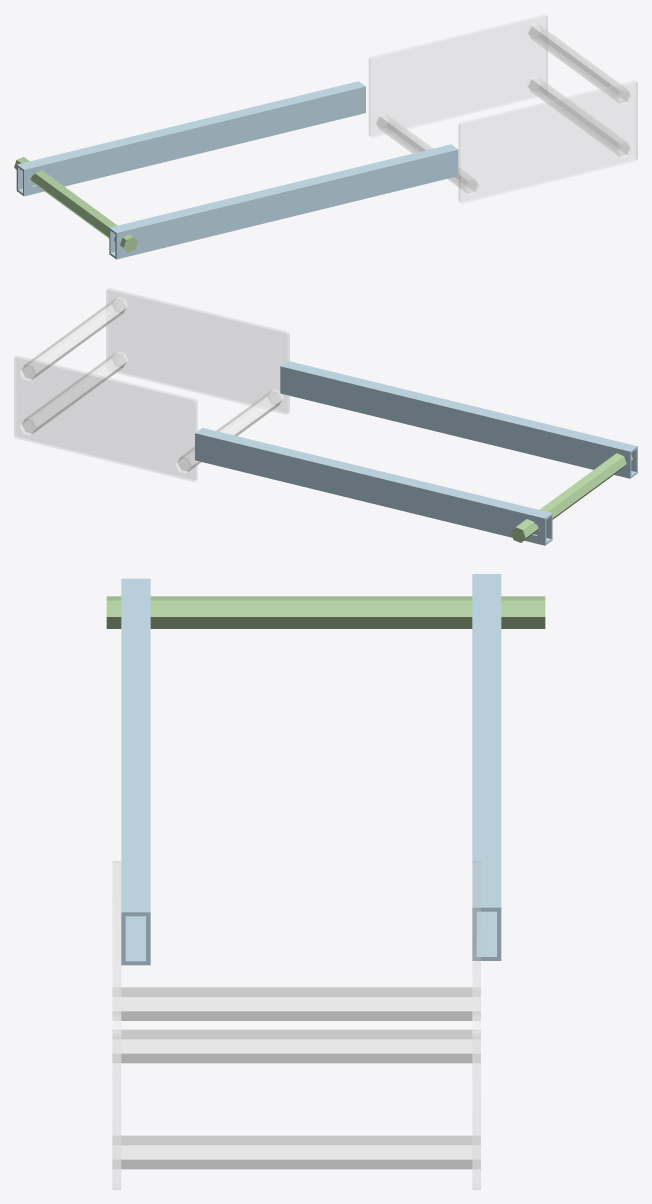
The model's file is Arm.dae.
3 renders of one model, top to bottom at view 1: azimuth 30°, elevation 25°; view 2: azimuth 150°, elevation 25°; view 3: azimuth 270°, elevation 25°, orthographic. The views are drawn at different scales.
Parts seen in each view (by area): view 1: Object.007; view 2: Object.007; view 3: Object.007.
Boxes of the visible parts, x1,y1,x2,y2 form: Object.007: (14, 14, 637, 259); Object.007: (14, 288, 637, 545); Object.007: (106, 574, 545, 1189).
Bounding box in the file's own units: 1.05 × 0.381 × 0.1524.
